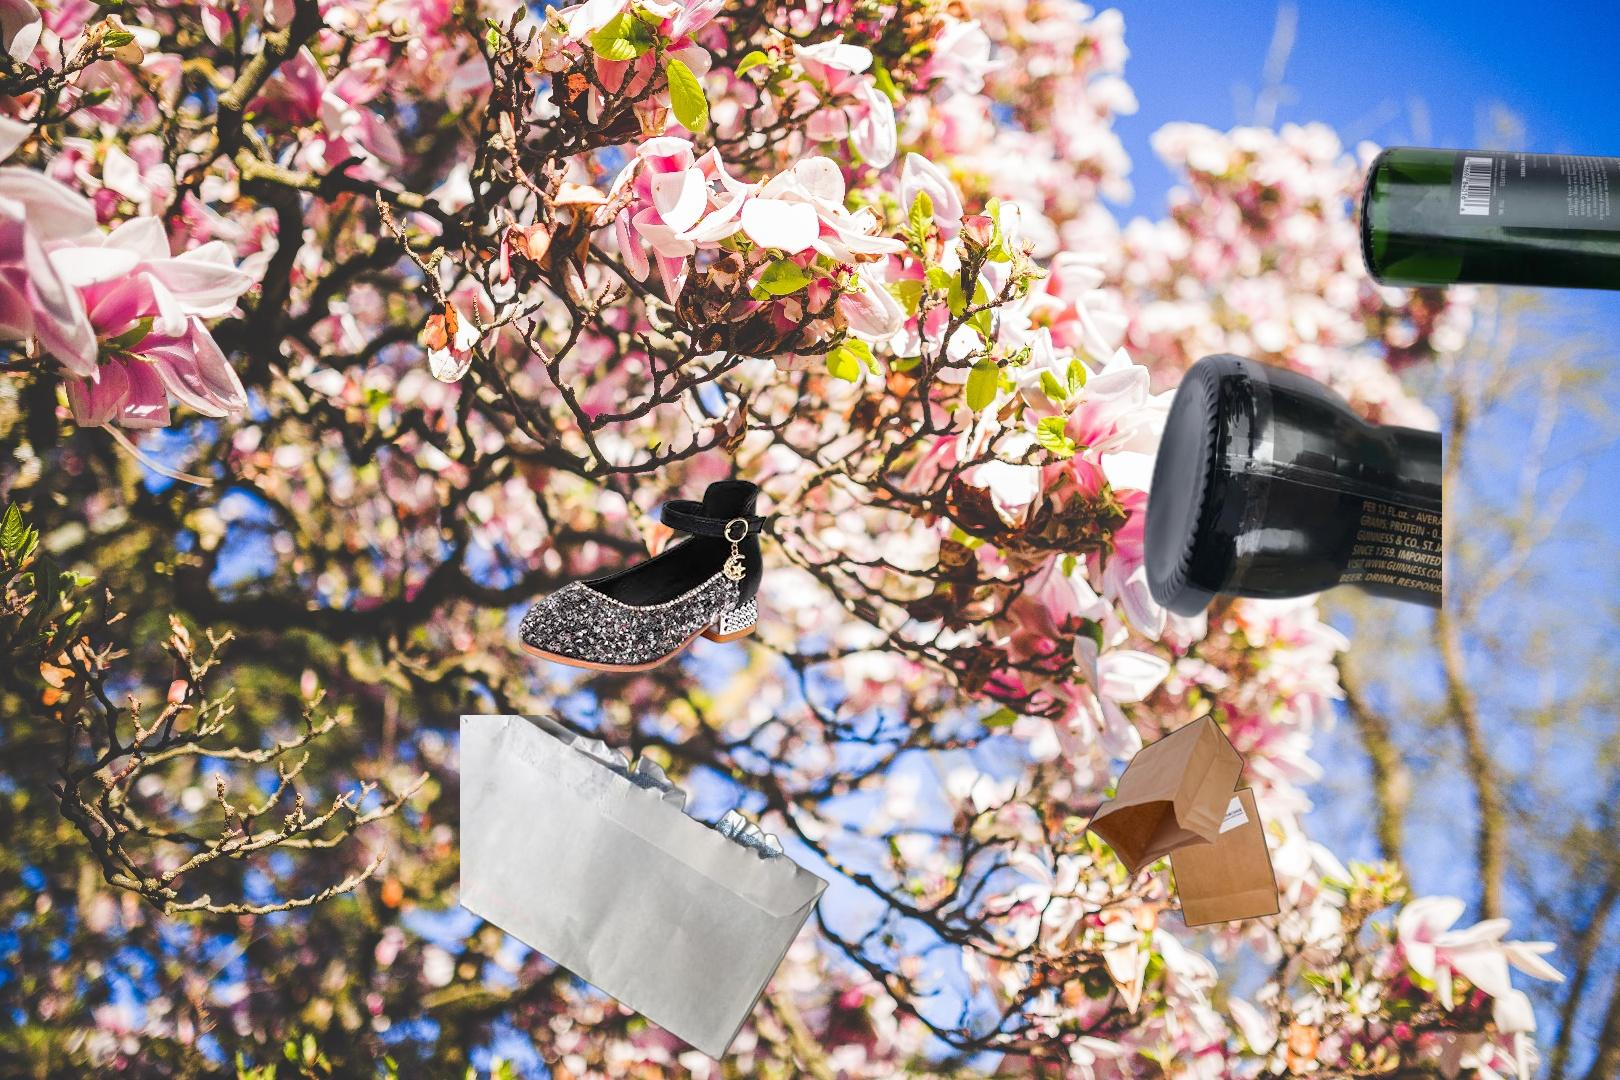glass: (1270, 143, 1620, 405), (1139, 351, 1442, 652)
paper: (460, 715, 833, 1064)
paper-bag: (1064, 670, 1282, 929)
shoes: (515, 479, 769, 675)
